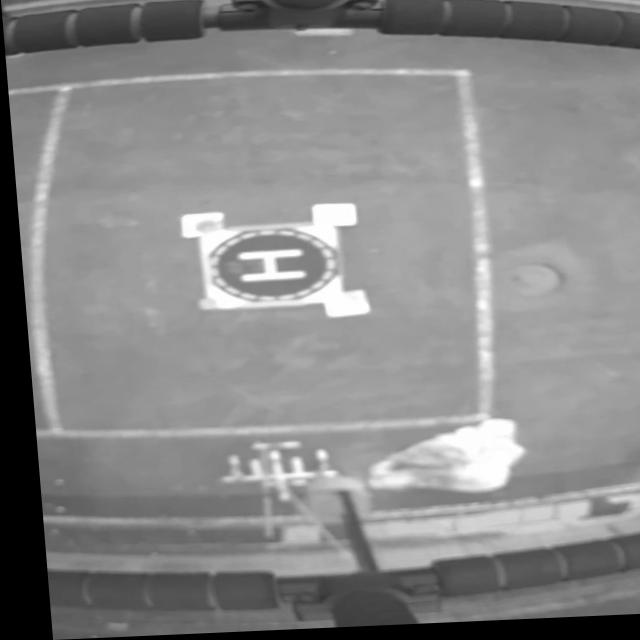Helipad: (231, 251, 304, 285)
